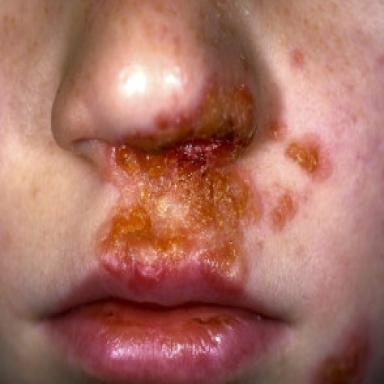Impetigo: (95, 71, 298, 300), (313, 319, 373, 384), (284, 134, 332, 182), (267, 119, 288, 142)
